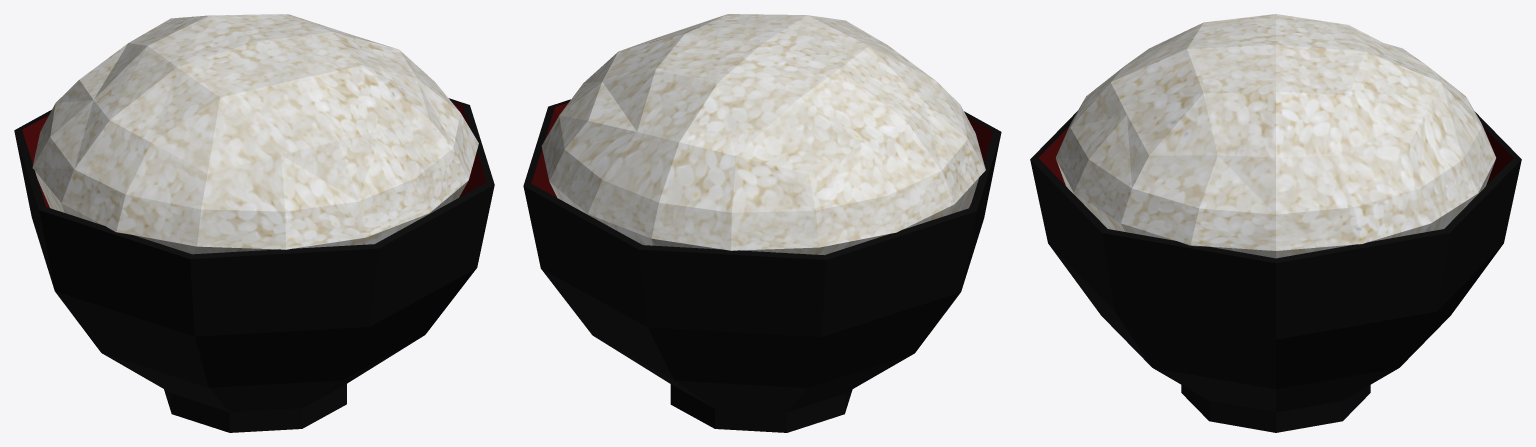
The model's file is bowl of rice.obj.
3 renders of one model, left to right at view 1: azimuth 30°, elevation 25°; view 2: azimuth 150°, elevation 25°; view 3: azimuth 270°, elevation 25°, orthographic.
Size of the model in its own units: 2.07 by 1.62 by 2.07.
Materials: 3 (1 with a texture image).
